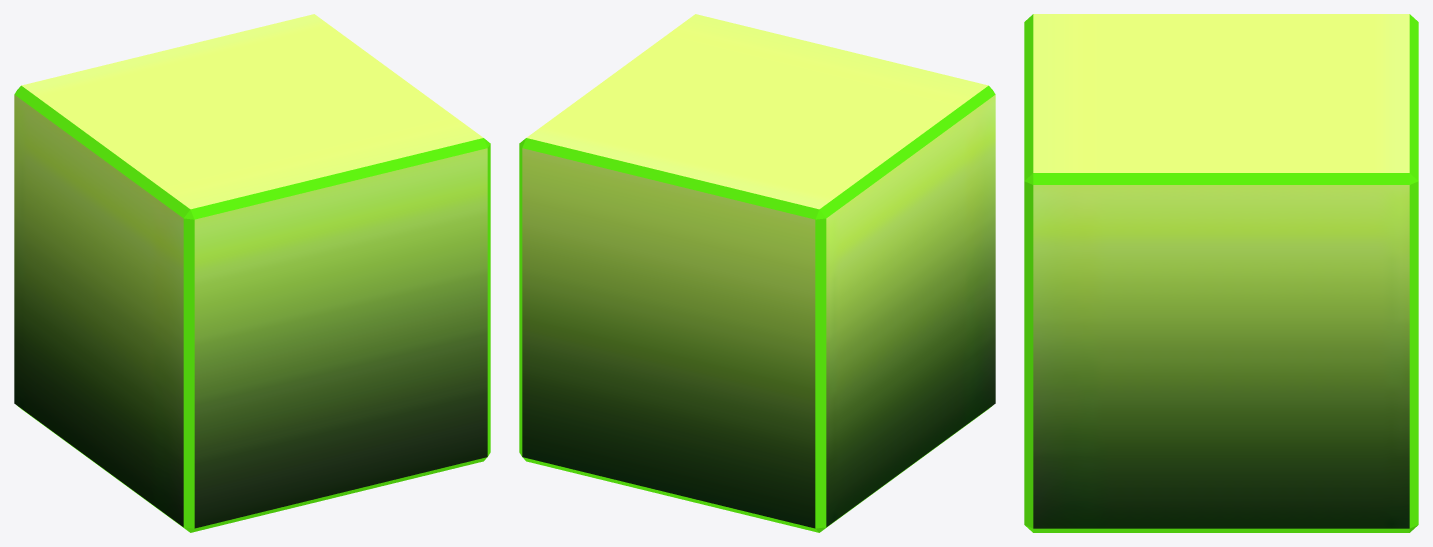
Rendered from 12ce9399-a8d8-4e4e-8aad-641e9efdd246.glb.
The picture shows the model from 3 angles, left to right: view 1: azimuth 30°, elevation 25°; view 2: azimuth 150°, elevation 25°; view 3: azimuth 270°, elevation 25°; orthographic projection. The views are drawn at different scales.
Visible parts, largest first — view 1: CyberPunkCubeShapeB.005; view 2: CyberPunkCubeShapeB.005; view 3: CyberPunkCubeShapeB.005.
Part boxes in pixels (<box>): CyberPunkCubeShapeB.005: <box>14,14,490,532</box>; CyberPunkCubeShapeB.005: <box>519,14,995,532</box>; CyberPunkCubeShapeB.005: <box>1024,14,1418,532</box>.
Size of what is drawn, in the model's own units: 0.7415 by 0.7467 by 0.7415.
2 materials, 2 textured.
